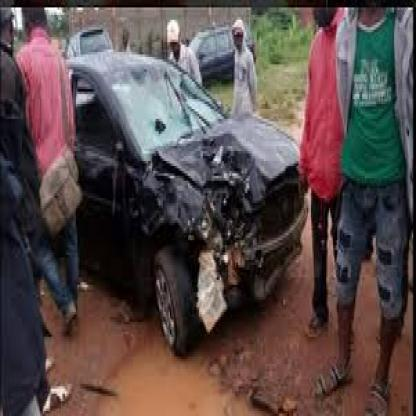accident: (74, 50, 310, 364)
